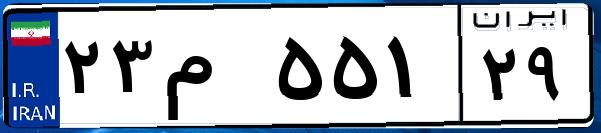1: (385, 28, 445, 110)
2: (57, 26, 110, 100), (475, 38, 525, 113)
3: (110, 28, 158, 98)
5: (270, 28, 330, 110), (330, 28, 385, 110)
9: (525, 38, 570, 115)
م: (158, 20, 270, 120)
